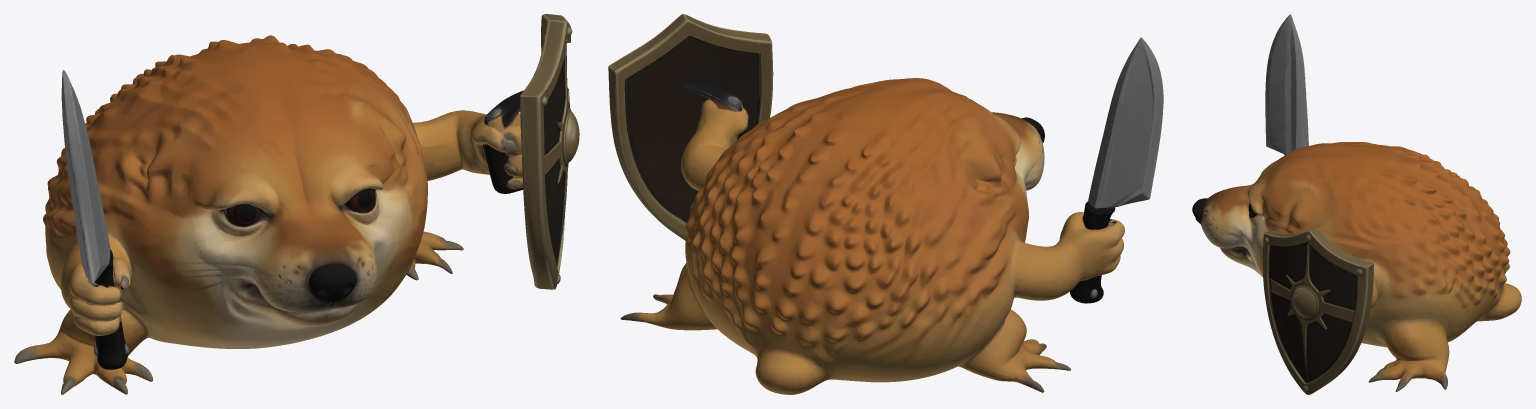
Rendered from drog_dog_meme.glb.
3 views of the same model, side by side, from view 1: azimuth 30°, elevation 25°; view 2: azimuth 150°, elevation 25°; view 3: azimuth 270°, elevation 25° (orthographic). The views are drawn at different scales.
Parts seen in each view (by area): view 1: output_unwrapped; view 2: output_unwrapped; view 3: output_unwrapped.
Part boxes in pixels (bbox=[...]): output_unwrapped: bbox=[14, 14, 579, 394]; output_unwrapped: bbox=[608, 14, 1163, 394]; output_unwrapped: bbox=[1192, 14, 1521, 394].
Size of the model in its own units: 1.9 by 1.18 by 1.5.
1 material, 1 textured.
